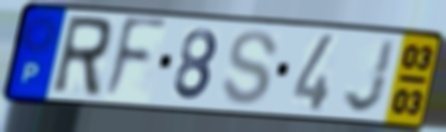4: (289, 31, 338, 114)
8: (173, 27, 220, 102)
F: (100, 14, 171, 104)
J: (341, 37, 399, 116)
R: (48, 13, 116, 100)
S: (219, 28, 281, 108)
